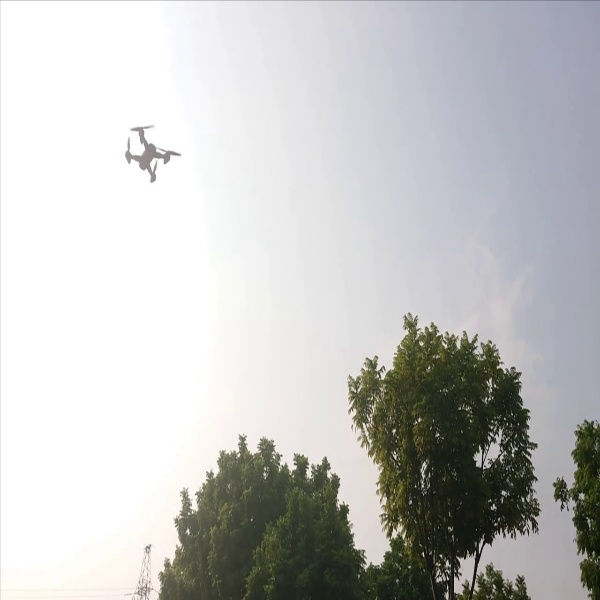drone: (115, 113, 191, 192)
